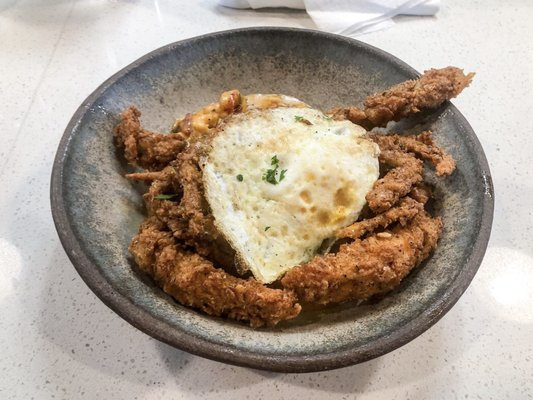sushi: (63, 41, 496, 375)
